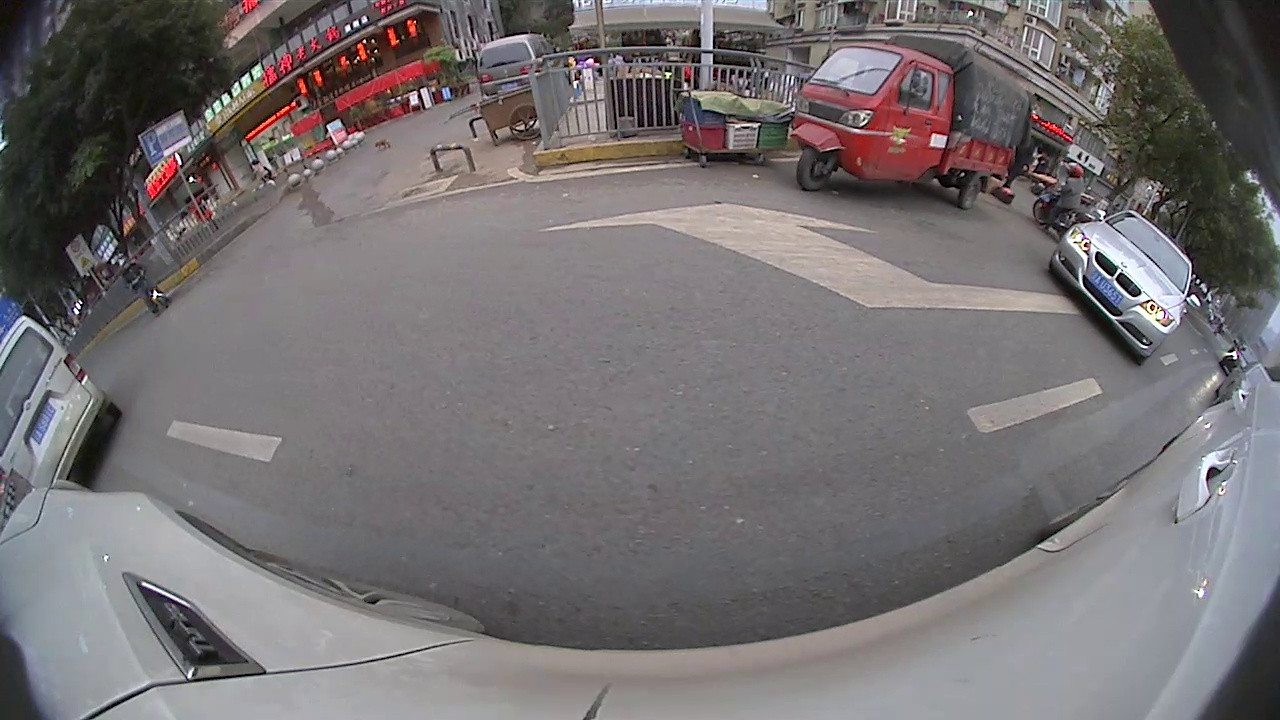car: (1046, 204, 1205, 367), (1, 310, 127, 494), (473, 29, 557, 97), (1216, 358, 1275, 412)
front: (793, 144, 837, 195), (1030, 197, 1058, 223)
rear: (959, 168, 990, 212)
rider: (793, 34, 1041, 215), (1033, 158, 1098, 240)
